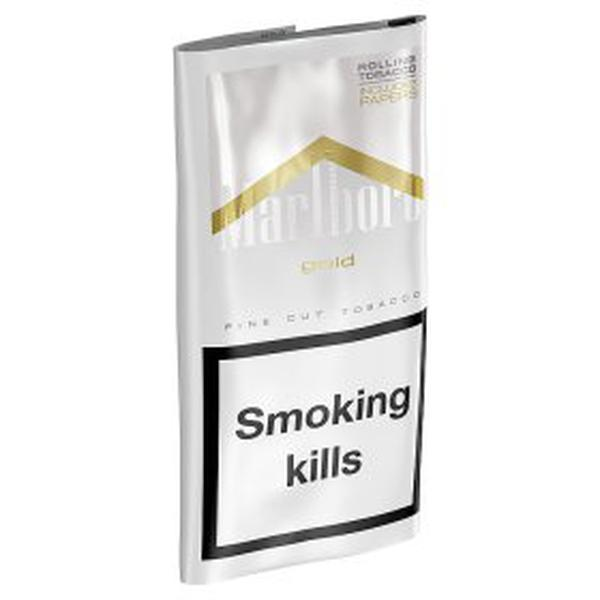marlboro_gold: (197, 47, 418, 542)
